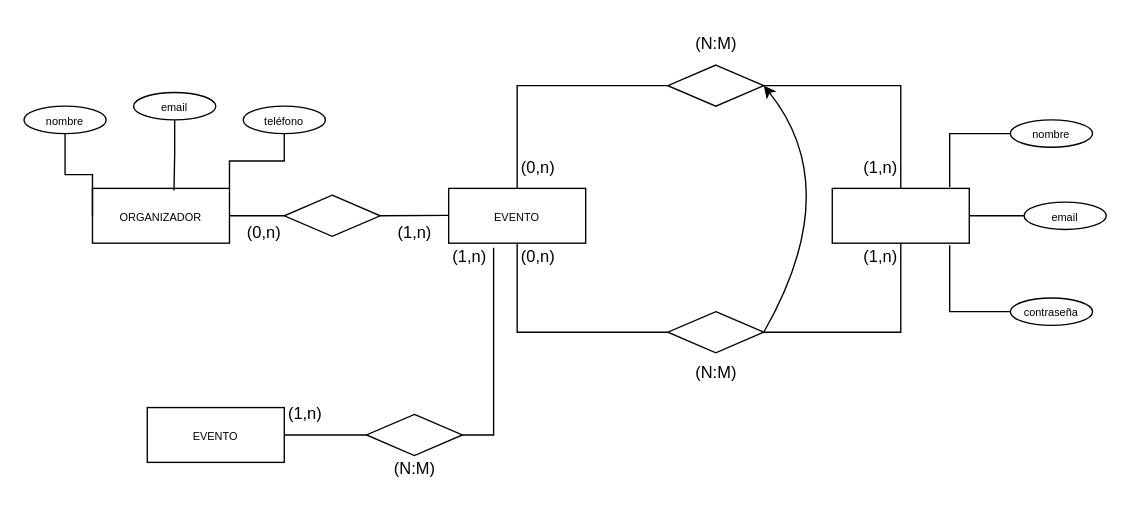
Some shapes in this 1130 by 512 pixel diagram are drawn without their labels. Here are the shapes that lost their labels. From the top down, the box of each, then its label:
(667, 64, 764, 106): inscribe
(283, 194, 380, 236): organiza
(831, 187, 969, 243): USUARIO
(667, 310, 764, 353): asiste
(365, 413, 462, 456): pertenece
